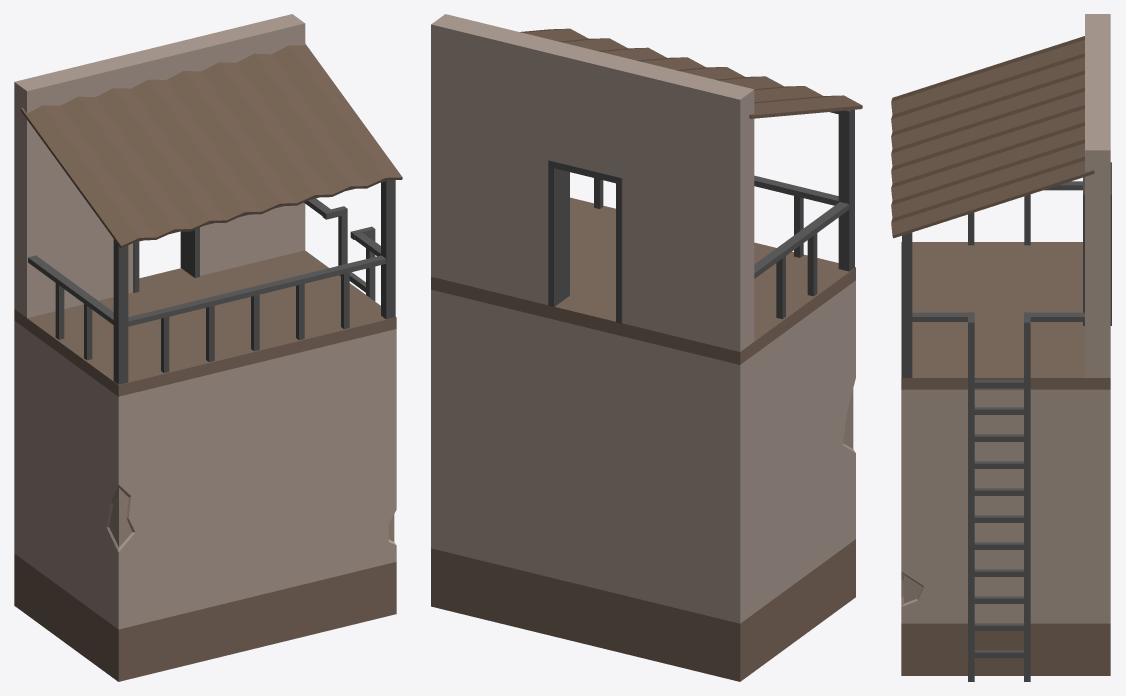
Rendered from Wall2_05.fbx.
3 renders of one model, left to right at view 1: azimuth 30°, elevation 25°; view 2: azimuth 150°, elevation 25°; view 3: azimuth 270°, elevation 25°, orthographic. The views are drawn at different scales.
Visible parts, largest first — view 1: Wall2_05; view 2: Wall2_05; view 3: Wall2_05.
Part boxes in pixels (left/top/right/bottom): Wall2_05: left=14, top=14, right=402, bottom=681; Wall2_05: left=431, top=14, right=862, bottom=681; Wall2_05: left=891, top=14, right=1111, bottom=681.
Size of the model in its own units: 525 by 900 by 342.
